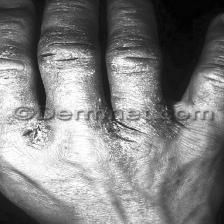Non-Cancerous Skin Condition: (2, 124, 179, 168), (110, 10, 158, 94), (46, 29, 92, 92), (0, 17, 32, 94)
